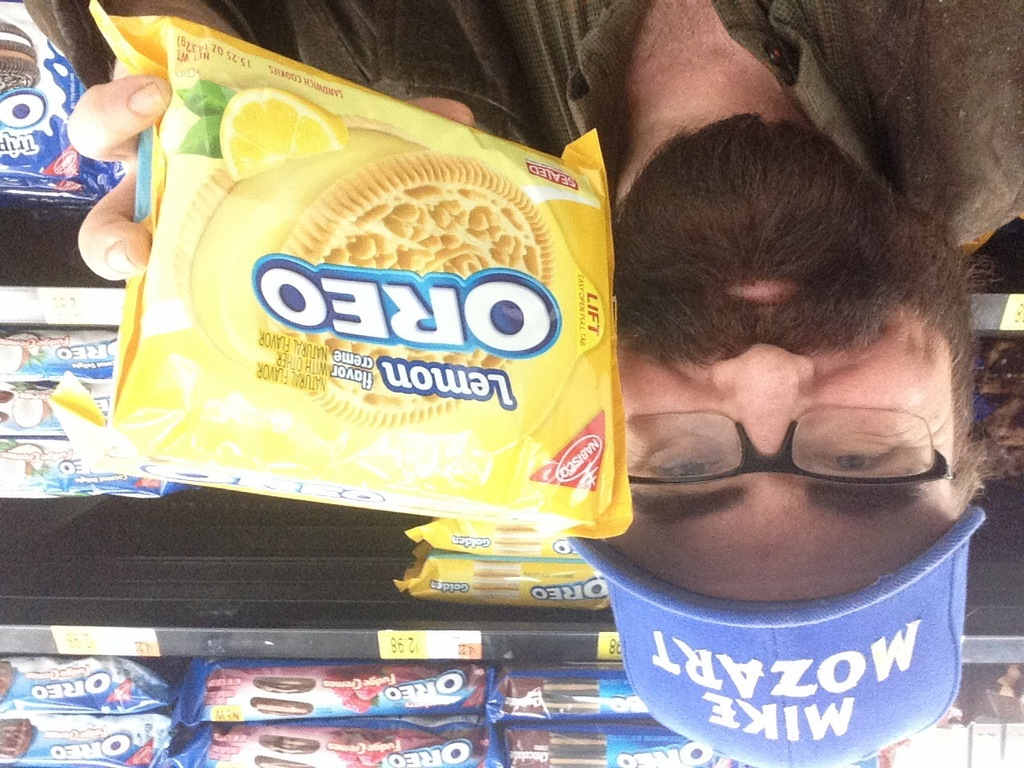Human_hand: (66, 10, 476, 282)
